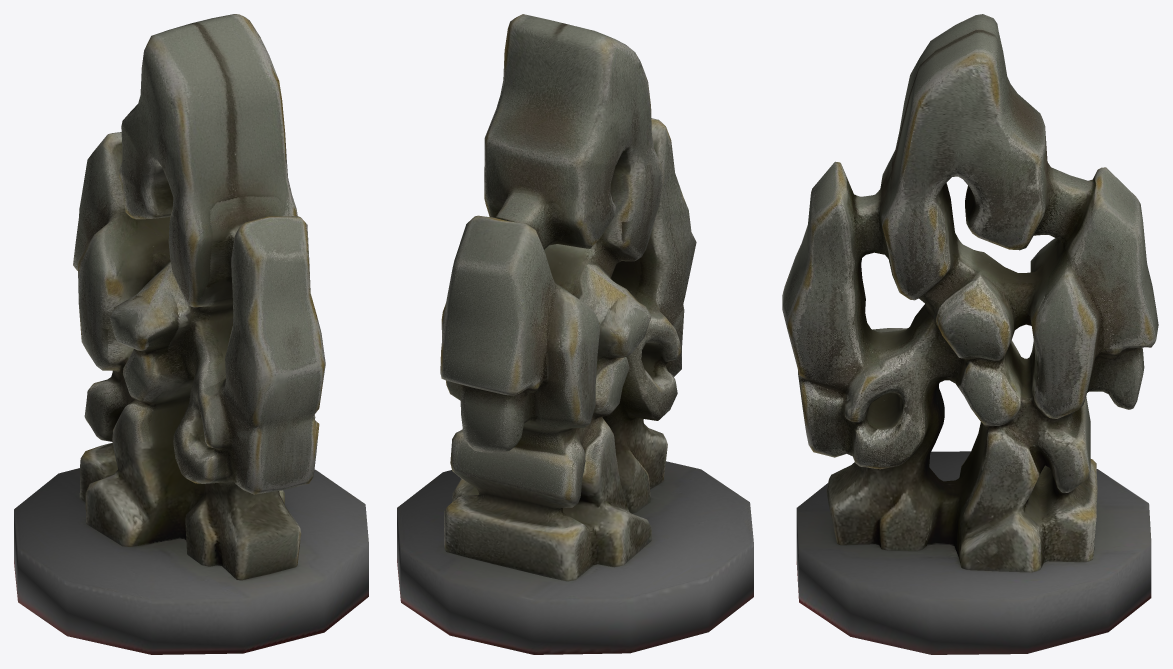
The model's file is tripo_convert_eec1516b-9a21-4b58-a9ef-e2d58c89a603.fbx.
3 renders of one model, left to right at view 1: azimuth 30°, elevation 25°; view 2: azimuth 150°, elevation 25°; view 3: azimuth 270°, elevation 25°, orthographic.
Parts seen in each view (by area): view 1: tripo_node_eec1516b; view 2: tripo_node_eec1516b; view 3: tripo_node_eec1516b.
Part boxes in pixels (x1=…): tripo_node_eec1516b: x1=14, y1=14, x2=368, y2=654; tripo_node_eec1516b: x1=397, y1=14, x2=753, y2=654; tripo_node_eec1516b: x1=782, y1=14, x2=1158, y2=654.
Bounding box in the file's own units: 0.5801 × 0.998 × 0.6152.
Materials: 1 (1 with a texture image).
